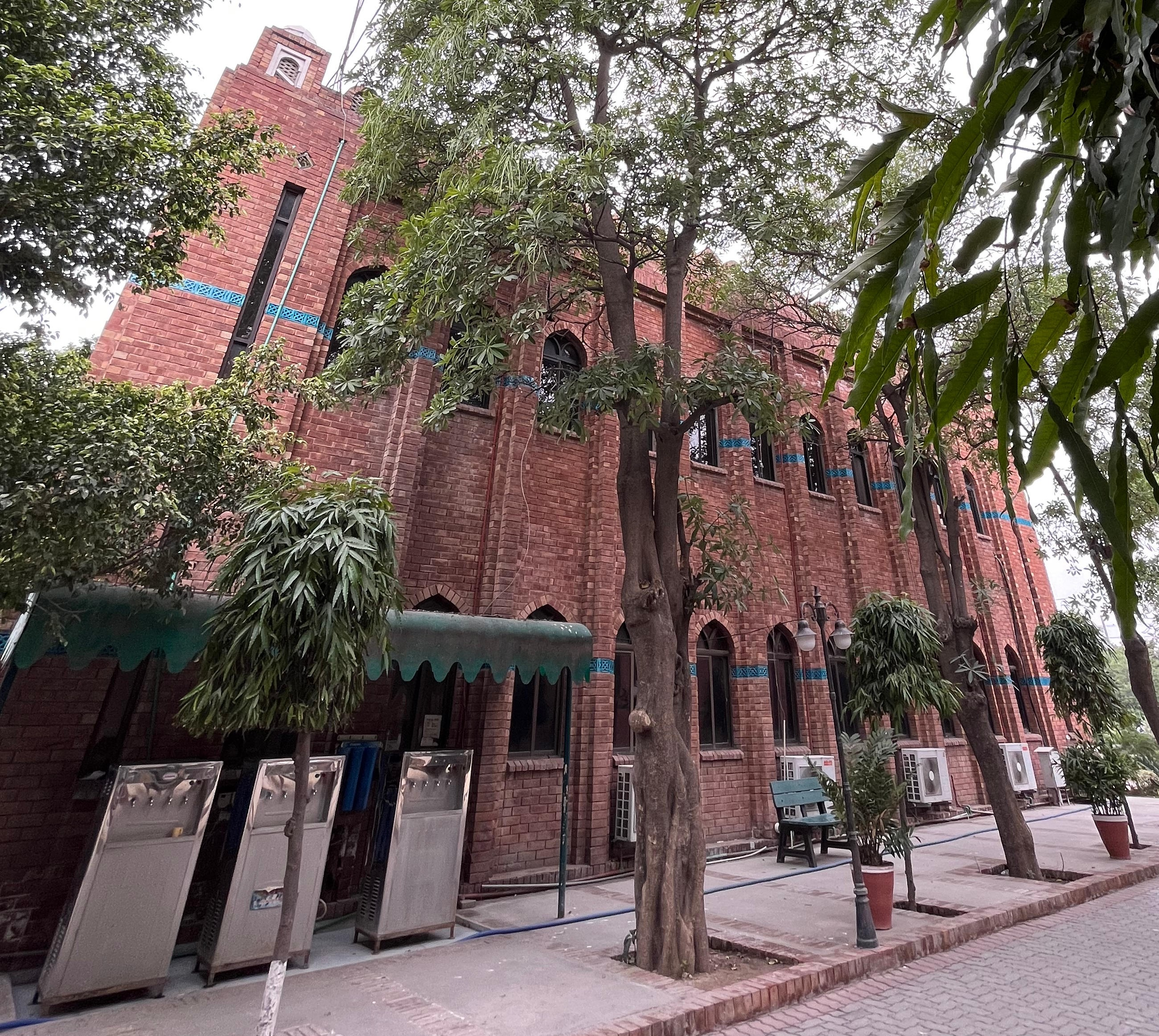Block B: (60, 32, 1043, 918)
